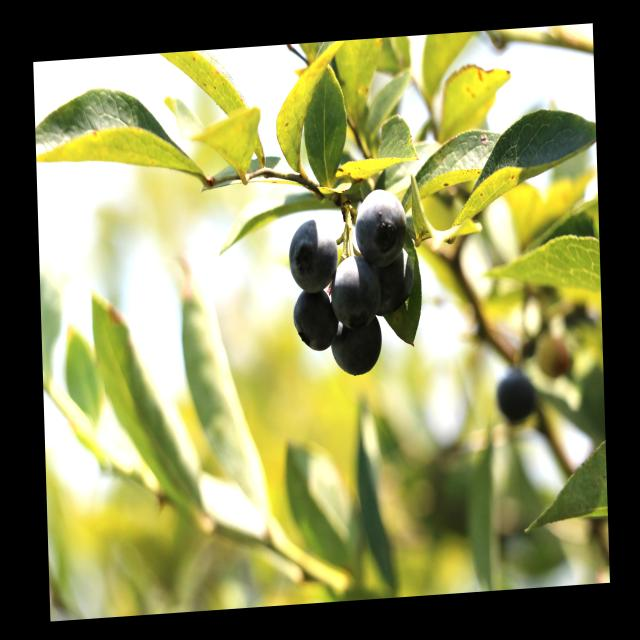blueberry: (288, 215, 340, 295), (353, 188, 407, 265), (333, 303, 382, 381), (287, 286, 339, 357), (332, 253, 380, 329), (374, 243, 416, 319), (491, 368, 539, 427)
